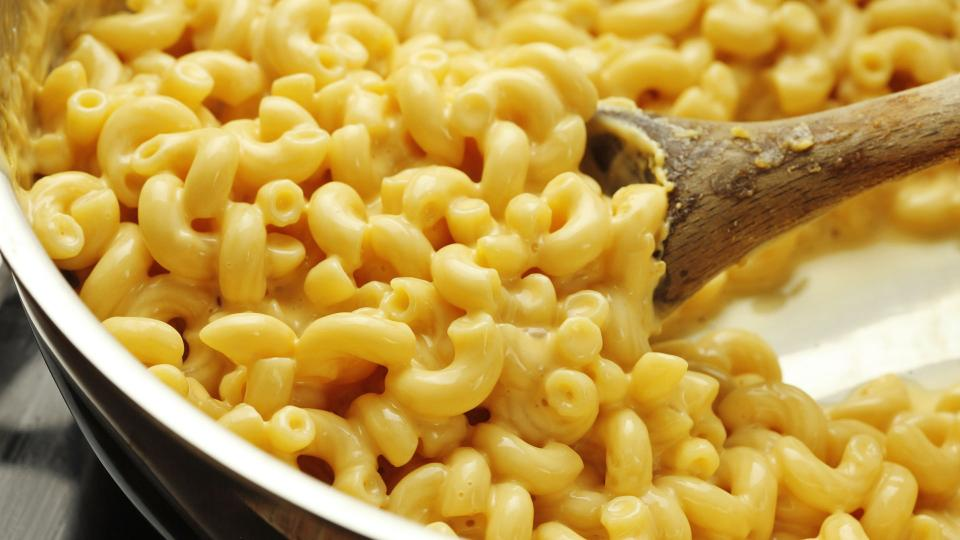macncheese: (52, 21, 796, 517)
